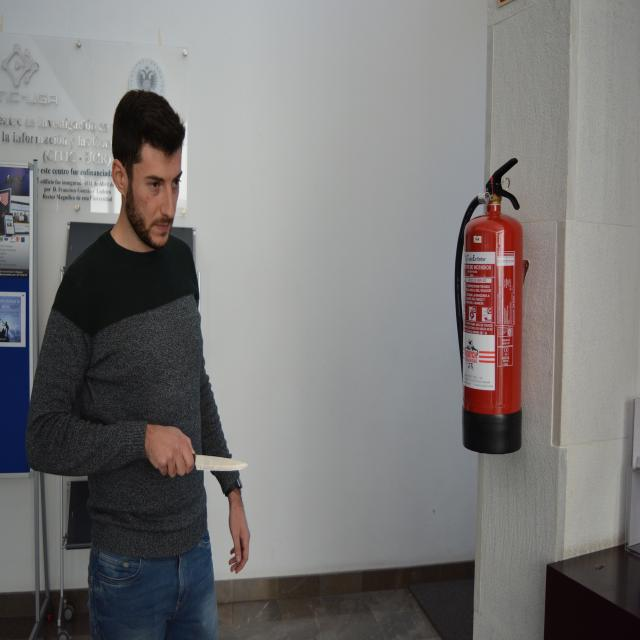knife: (191, 454, 252, 477)
